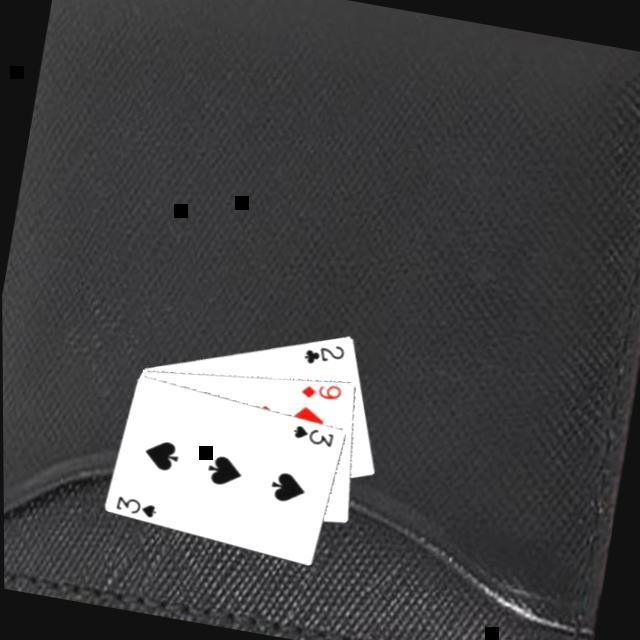2C: (300, 337, 350, 374)
3S: (112, 494, 162, 524), (290, 422, 338, 453)
9D: (298, 378, 347, 408)
